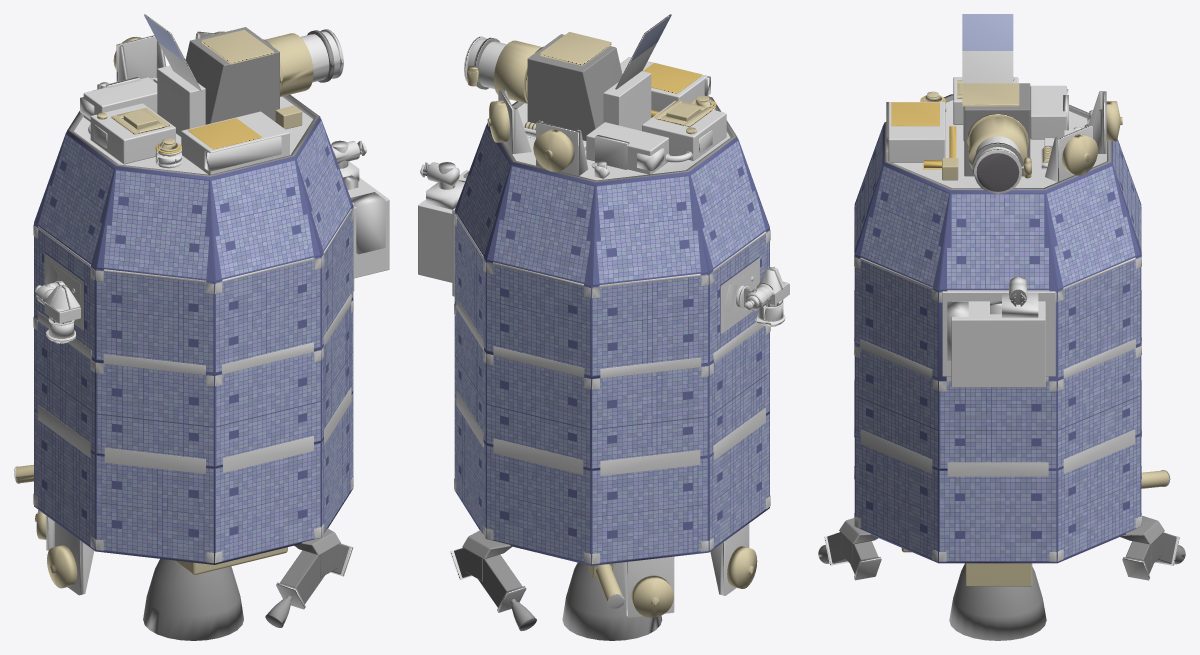
Rendered from Lunar Atmosphere and Dust Environment Explorer (LADEE).glb.
The picture shows the model from 3 angles, left to right: view 1: azimuth 30°, elevation 25°; view 2: azimuth 150°, elevation 25°; view 3: azimuth 270°, elevation 25°; orthographic projection. The views are drawn at different scales.
Parts seen in each view (by area): view 1: Fake; view 2: Fake; view 3: Fake.
Part boxes in pixels (x1,y1,x2,y2): Fake: (14,14,389,640); Fake: (418,14,789,640); Fake: (818,14,1185,640).
Size of the model in its own units: 37.18 by 63.9 by 36.23.
